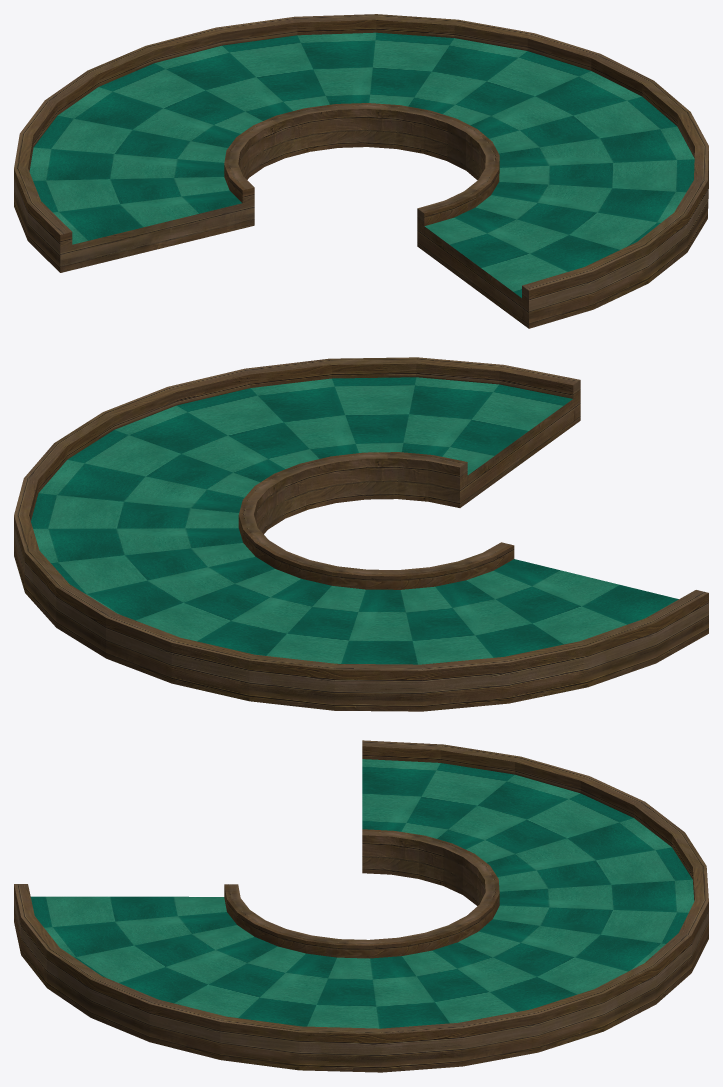
File: PartBigCurveB270.gltf
3 views of the same model, one above another, from view 1: azimuth 30°, elevation 25°; view 2: azimuth 150°, elevation 25°; view 3: azimuth 270°, elevation 25° (orthographic). The views are drawn at different scales.
Visible parts, largest first — view 1: PartBigCurveB270_glb; view 2: PartBigCurveB270_glb; view 3: PartBigCurveB270_glb.
Part boxes in pixels (bbox=[...]): PartBigCurveB270_glb: bbox=[14, 14, 708, 328]; PartBigCurveB270_glb: bbox=[14, 357, 708, 711]; PartBigCurveB270_glb: bbox=[14, 740, 708, 1072].
Size of what is drawn, in the model's own units: 12.42 by 0.75 by 12.4.
Materials: 2 (2 with a texture image).
